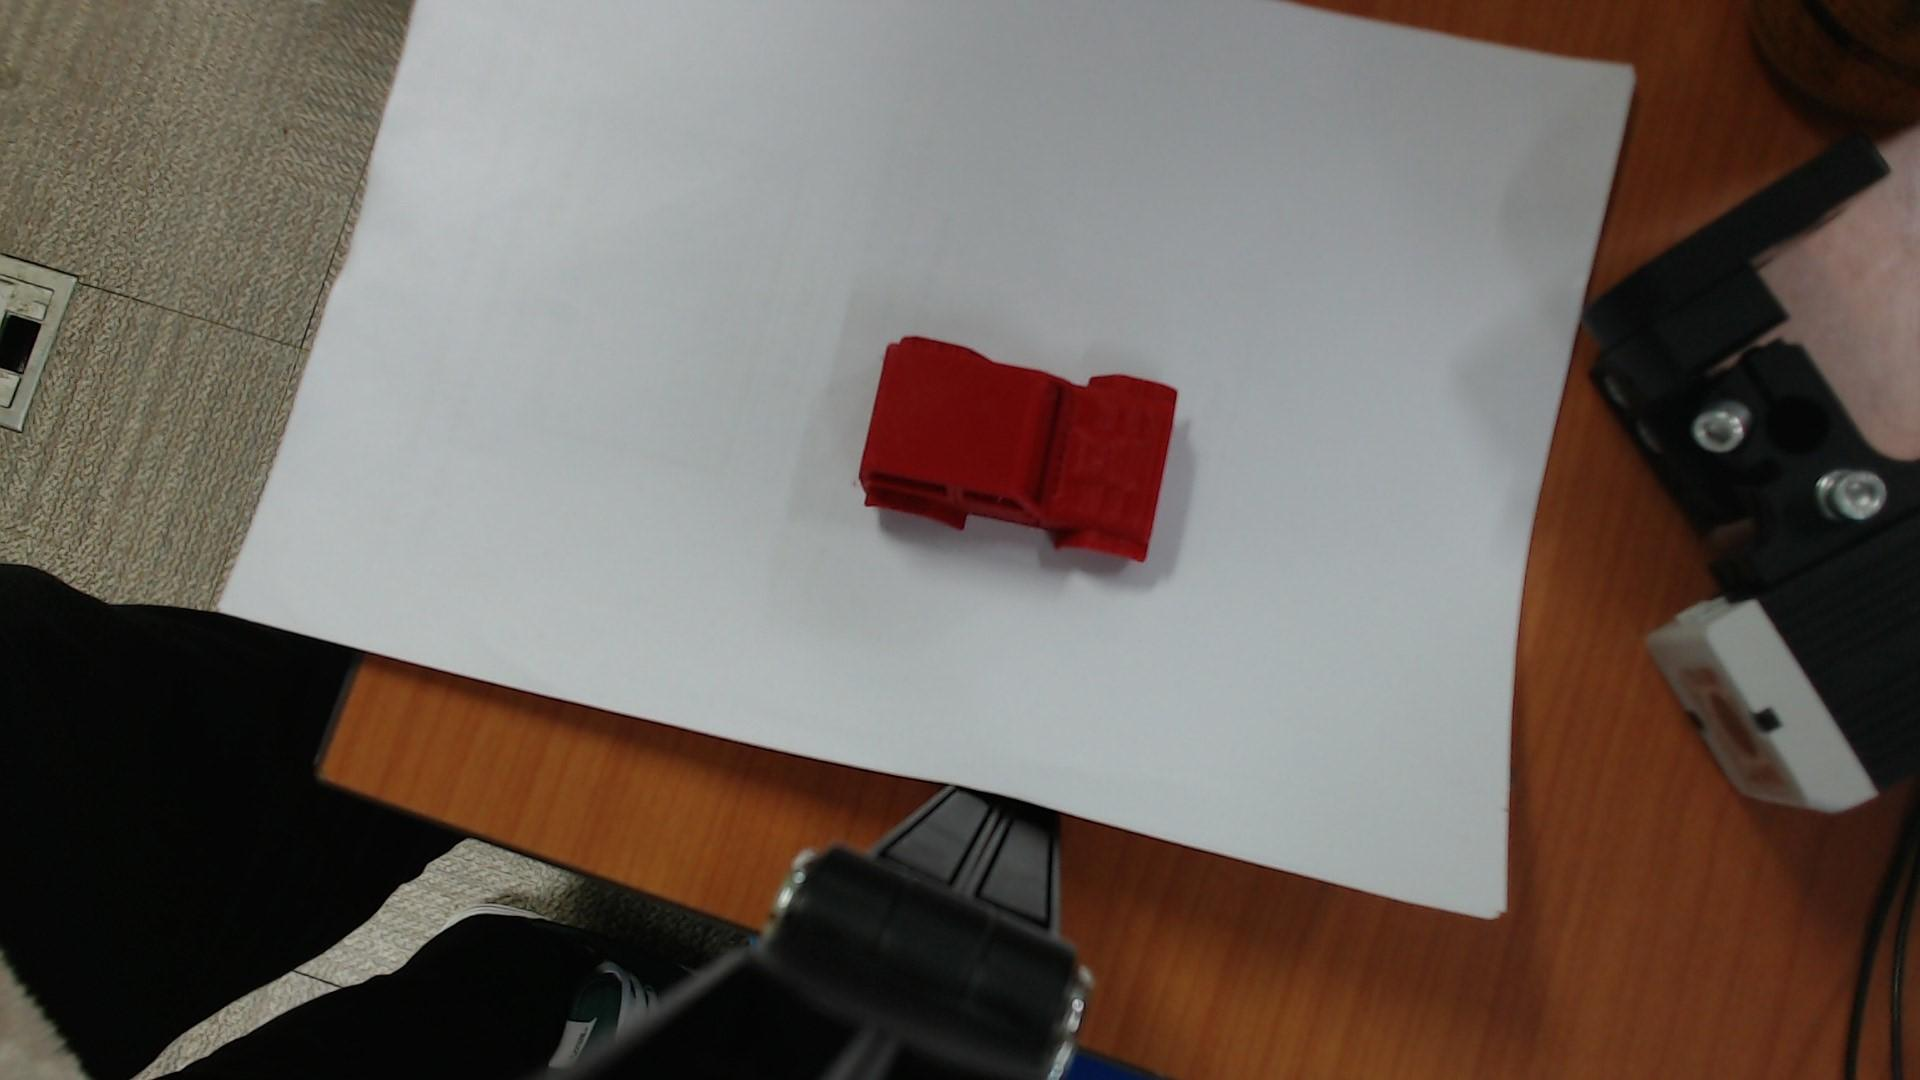Upper_ok: (858, 338, 1178, 560)
